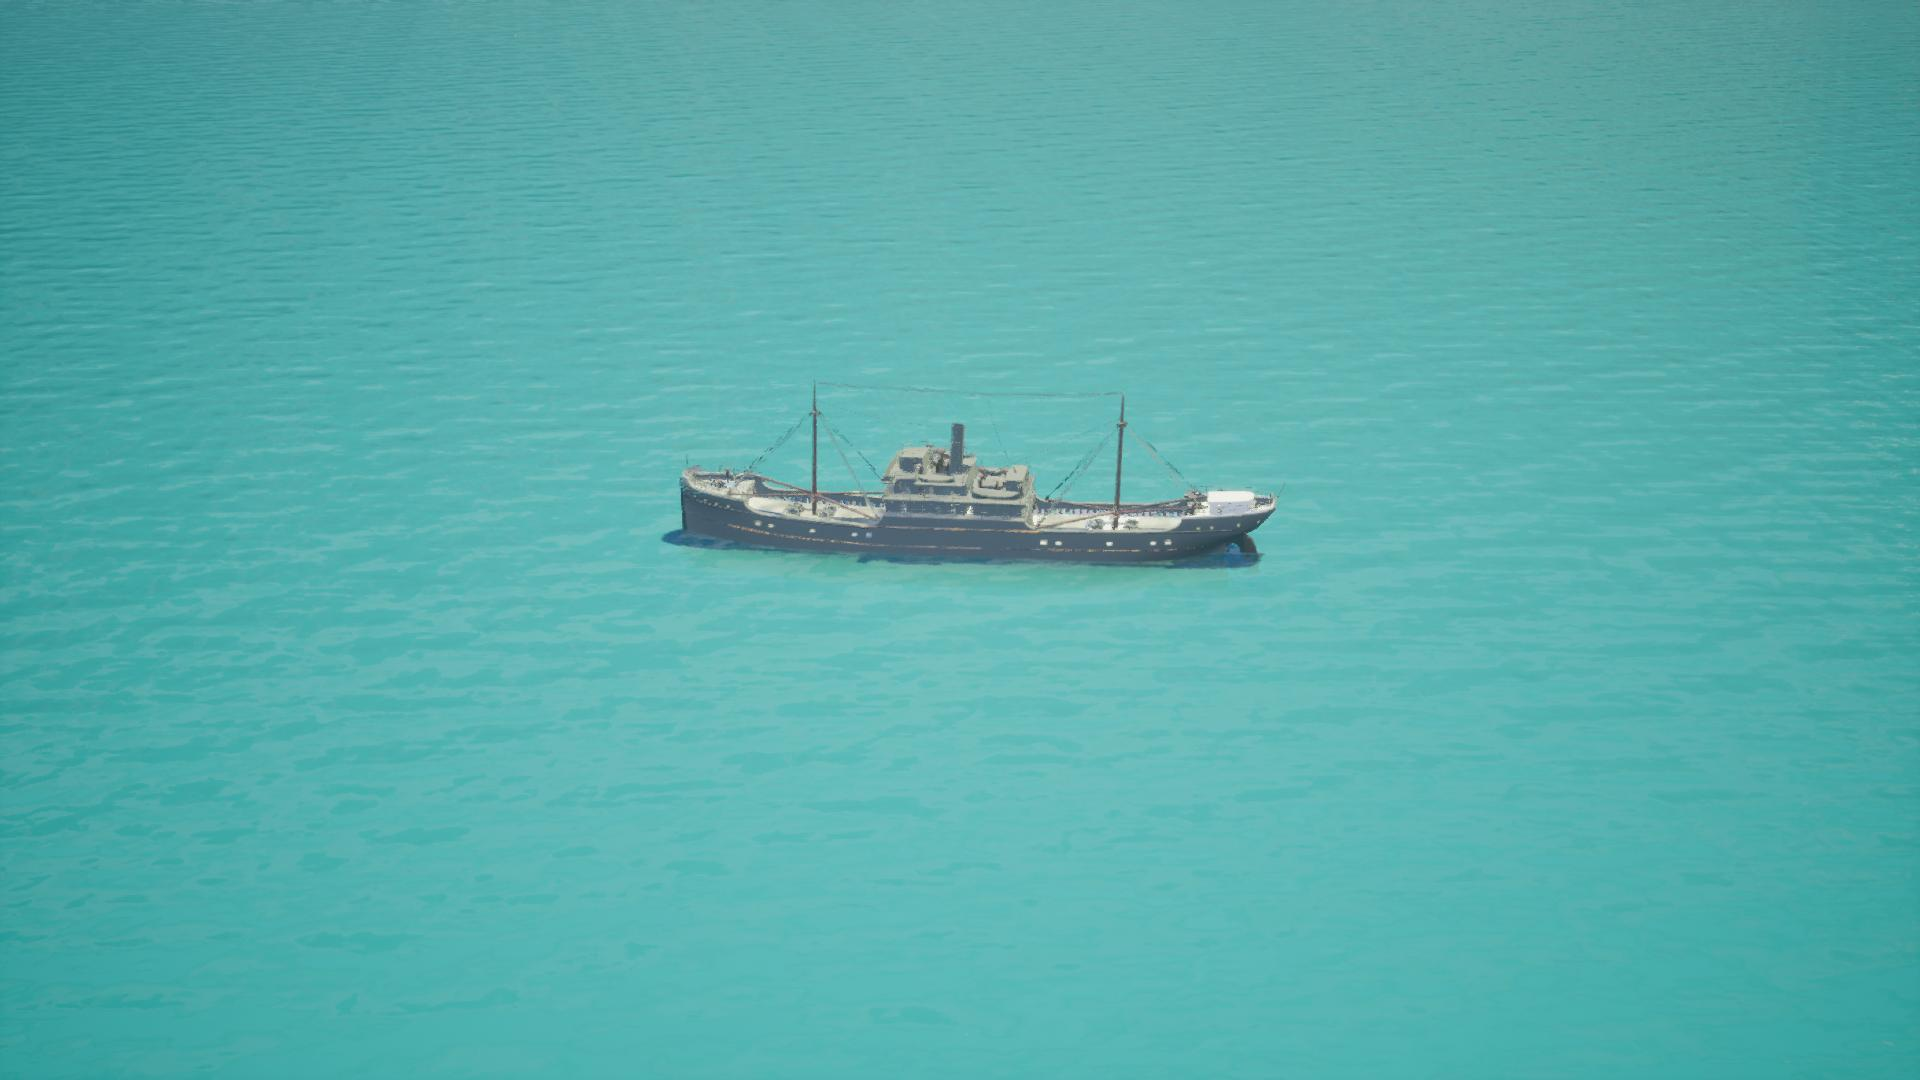Fishing Boat: (675, 386, 1276, 567)
